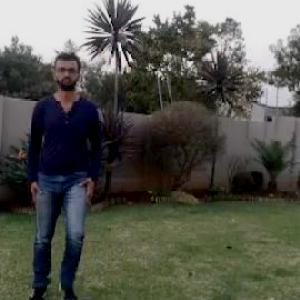follow: (18, 33, 109, 299)
